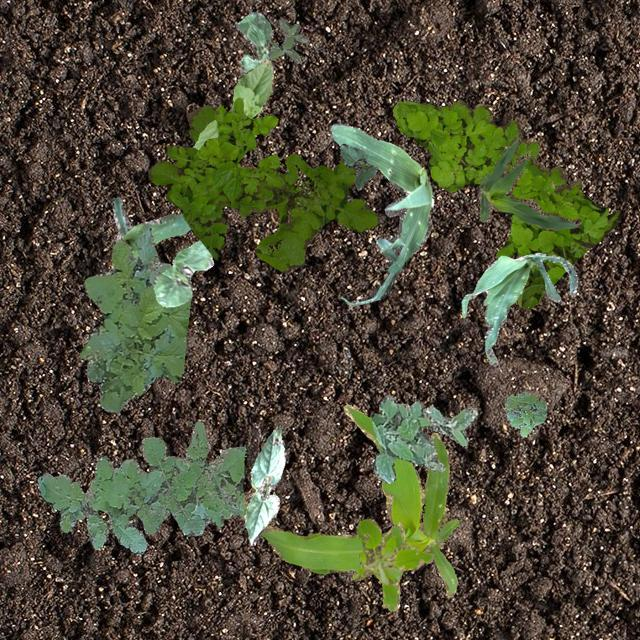crop: (240, 402, 458, 596), (329, 122, 434, 306), (461, 252, 576, 364), (476, 136, 580, 230), (192, 58, 274, 150), (112, 196, 190, 260), (242, 426, 284, 544), (152, 238, 212, 306), (234, 11, 270, 74), (338, 142, 376, 188)
weed: (392, 100, 620, 308), (146, 103, 378, 270), (36, 420, 245, 552), (78, 222, 190, 412), (164, 96, 284, 258), (371, 394, 476, 482), (352, 518, 432, 610), (504, 390, 546, 436), (268, 18, 308, 62)
